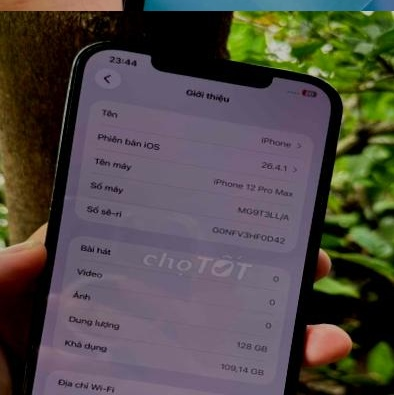scratch: (208, 75, 394, 395)
